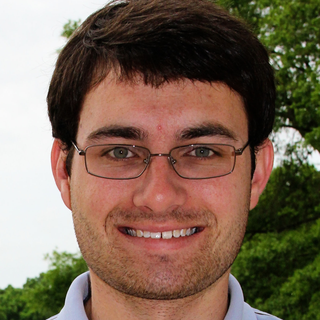eye: (99, 141, 148, 167), (176, 142, 222, 169)
